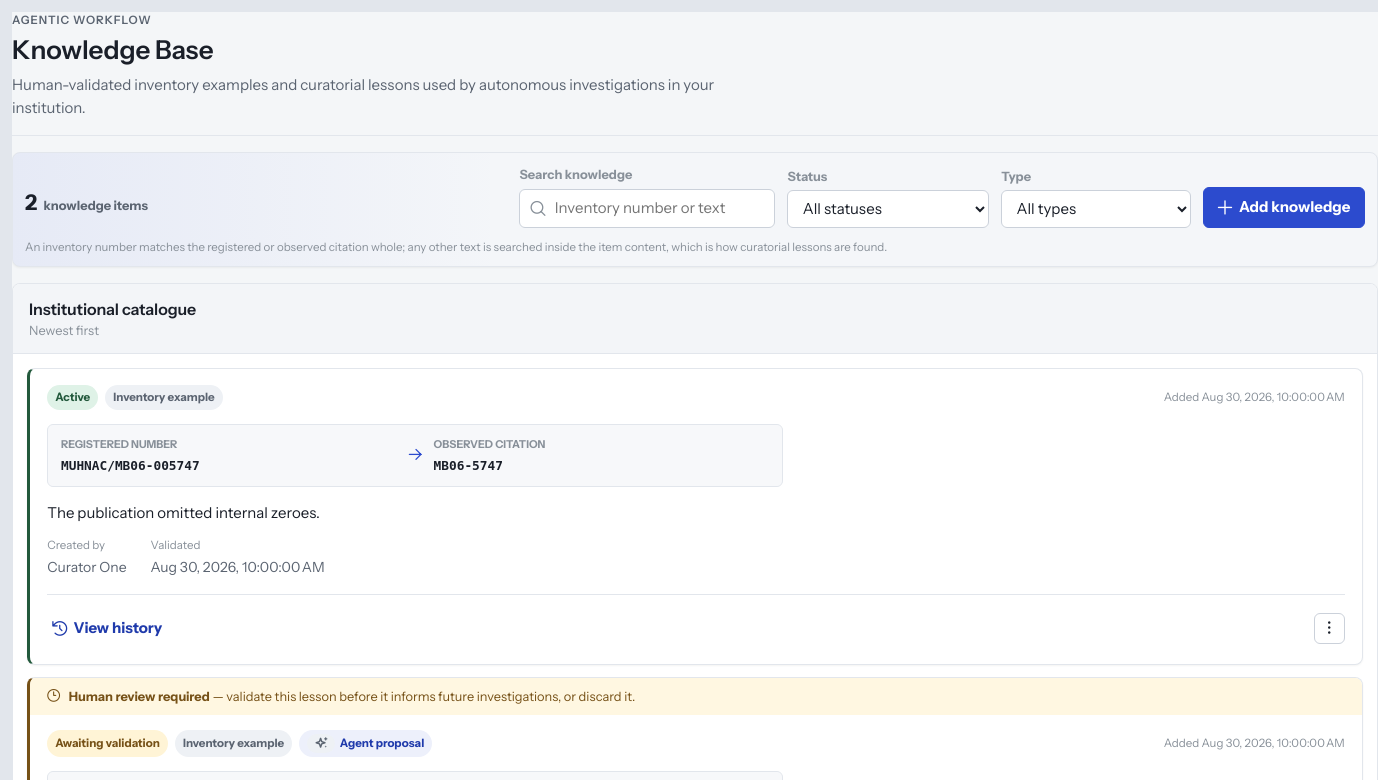
Scenario: ScientificReturnKnowledgeBasePageComponent › clears every filter from the shared bar
The width and height of the screenshot is (1378, 780).
Select "Awaiting validation" in the dropdown labelled "Status" at (888, 209), box [787,190,989,228]
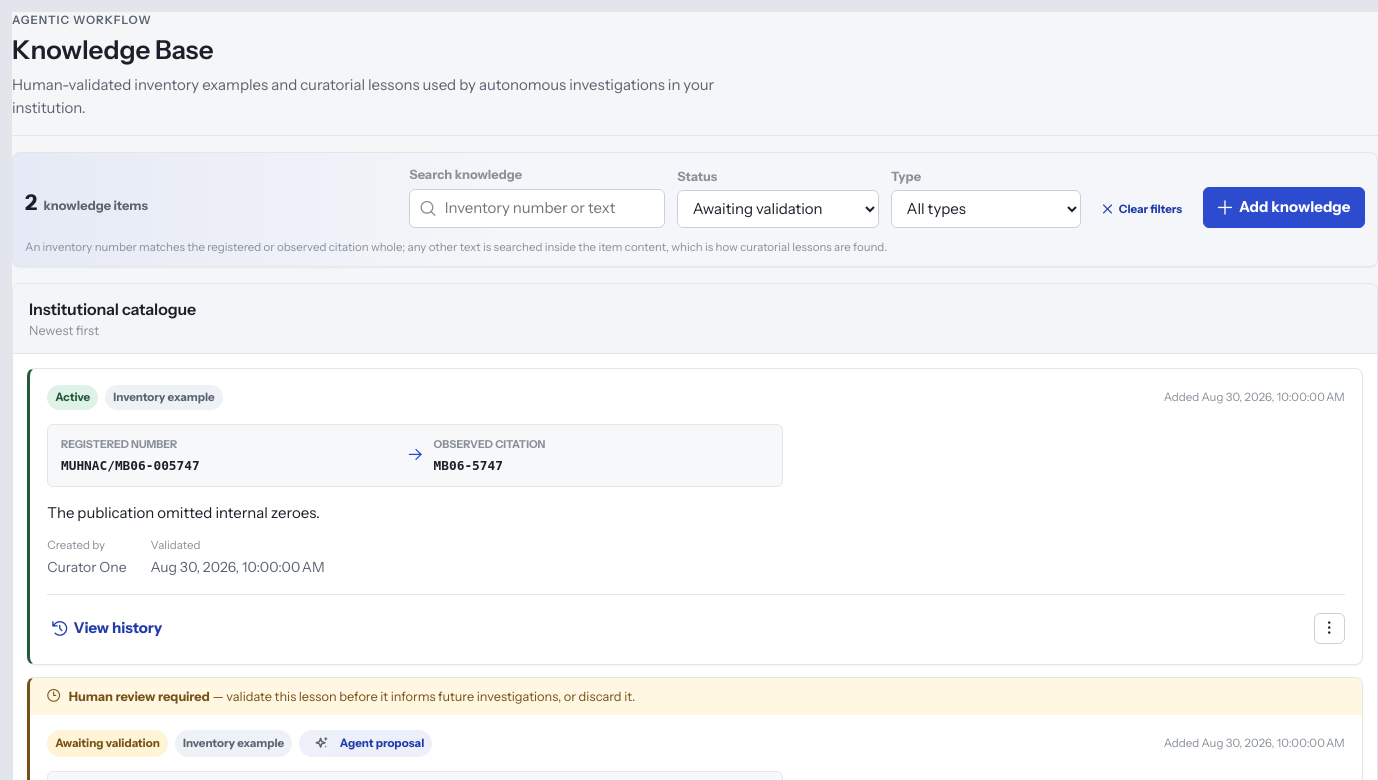
Click the button with class "filters-bar__clear" at (1142, 210), box [1093,192,1191,228]
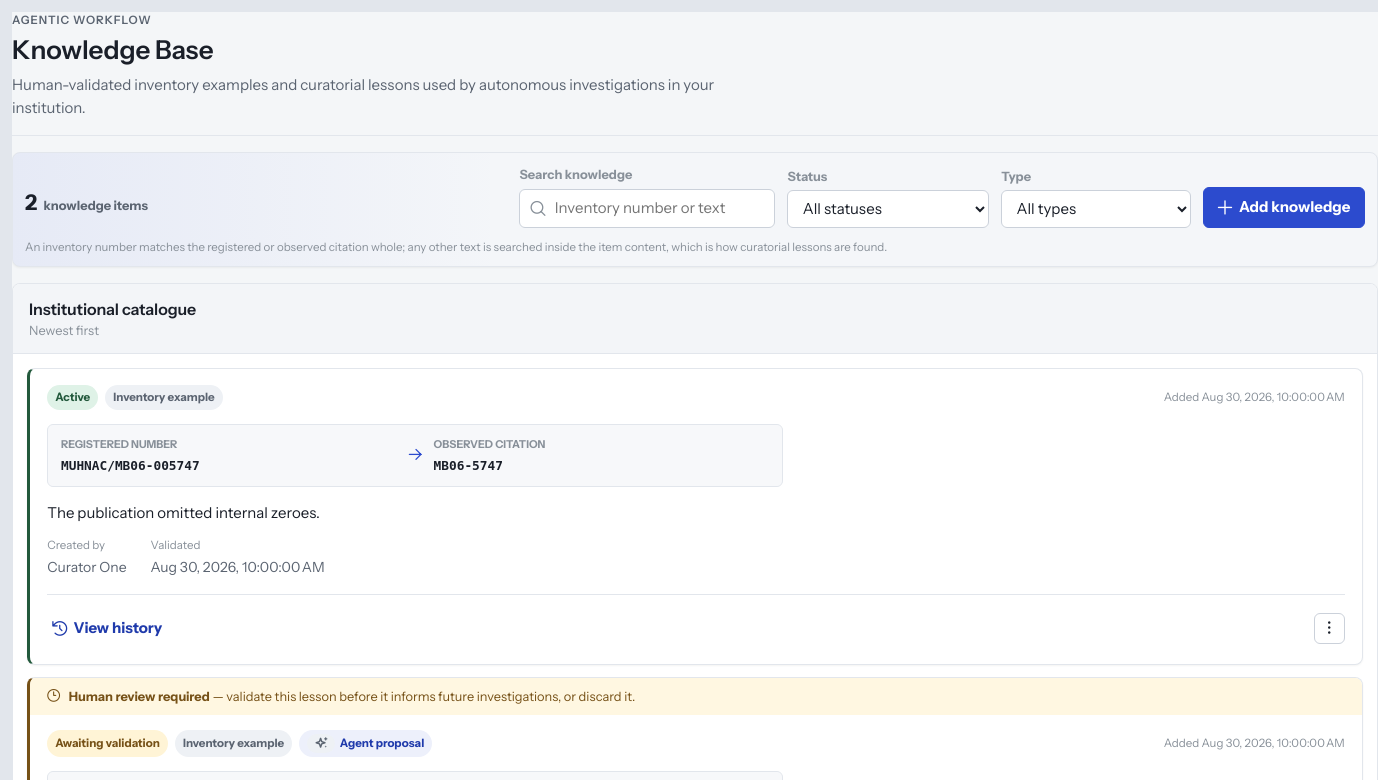
Now the button with class "filters-bar__clear" is gone
